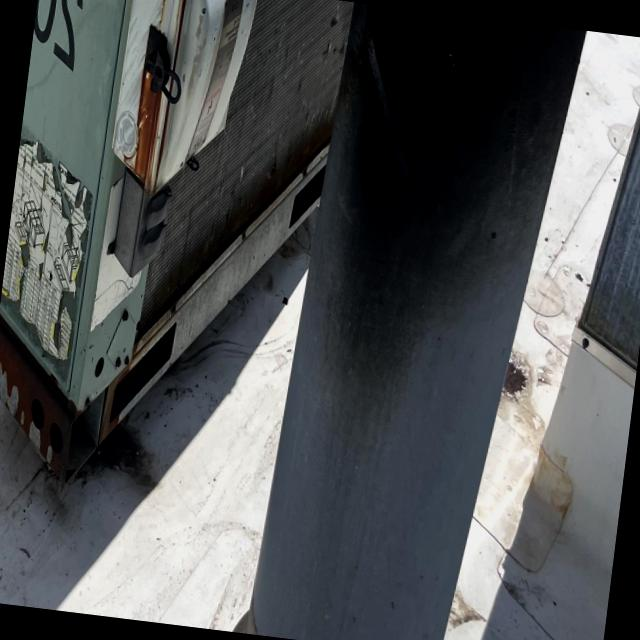GRAVITY-VENT: (212, 0, 640, 640)
RTU: (0, 0, 398, 530)
